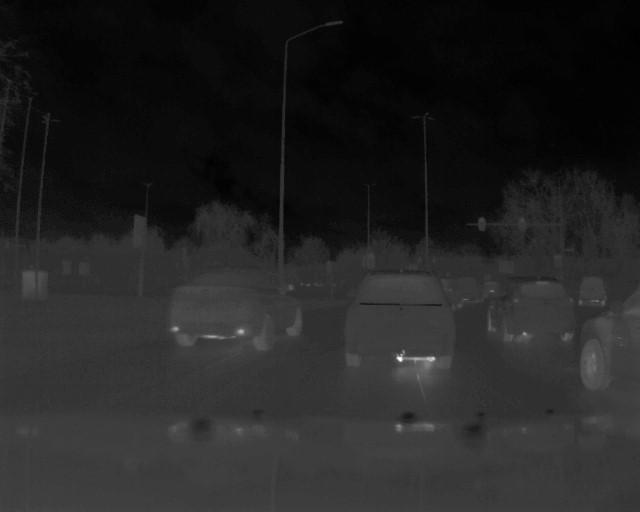car: (342, 268, 459, 371), (168, 265, 310, 349), (577, 279, 640, 401), (484, 277, 576, 352), (573, 276, 604, 307)
